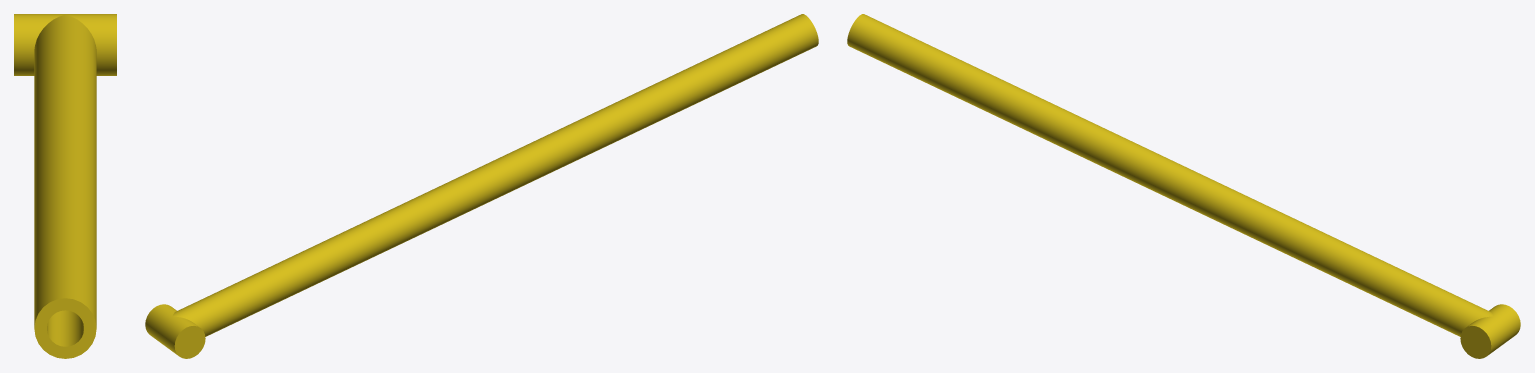
The model's file is nurbsToPoly9.gltf.
3 renders of one model, left to right at view 1: azimuth 90°, elevation 25°; view 2: azimuth 210°, elevation 25°; view 3: azimuth 330°, elevation 25°, orthographic. The views are drawn at different scales.
Visible parts, largest first — view 1: polySurface9; view 2: polySurface9; view 3: polySurface9.
Boxes of the visible parts, left/top/right/bottom form: polySurface9: left=14, top=14, right=116, bottom=358; polySurface9: left=145, top=14, right=818, bottom=358; polySurface9: left=847, top=14, right=1520, bottom=358.
Size of the model in its own units: 2.11 by 0.5523 by 0.165.
